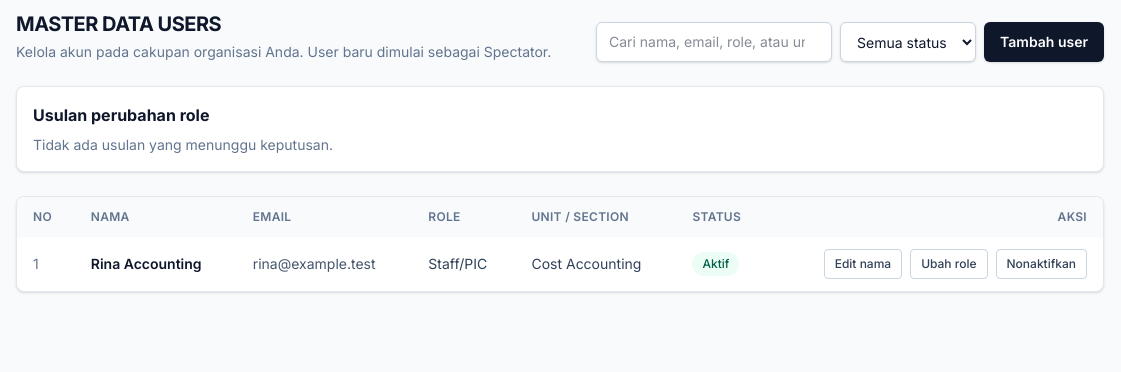
Test: UserManagement (FR-003, FR-004, FR-005) › filters the user table by search text
expect the text "Rina Accounting" is shown: met, box [75,237,237,291]
Type "missing" into the search field named "Cari user".
click(714, 42); type("missing")  # box [596,22,832,62]
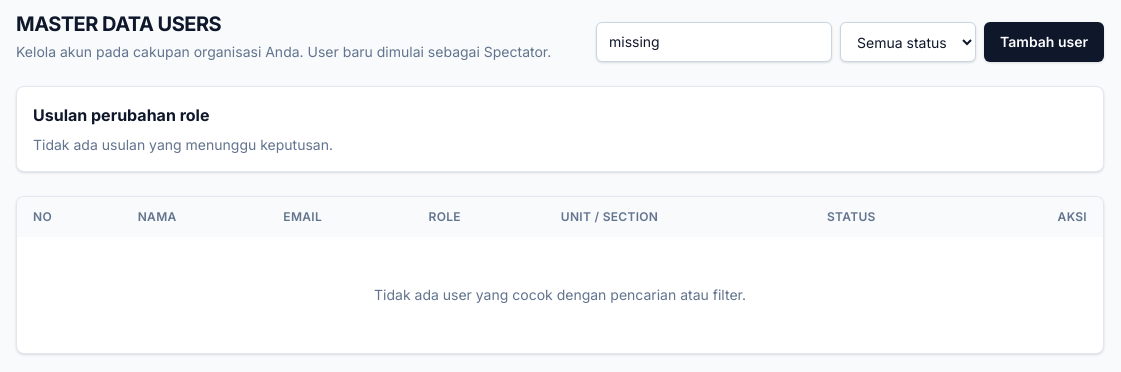
expect the text "Tidak ada user yang cocok dengan pencarian atau filter." is shown: met, box [17,237,1103,353]
expect the text "Rina Accounting" is gone: met
